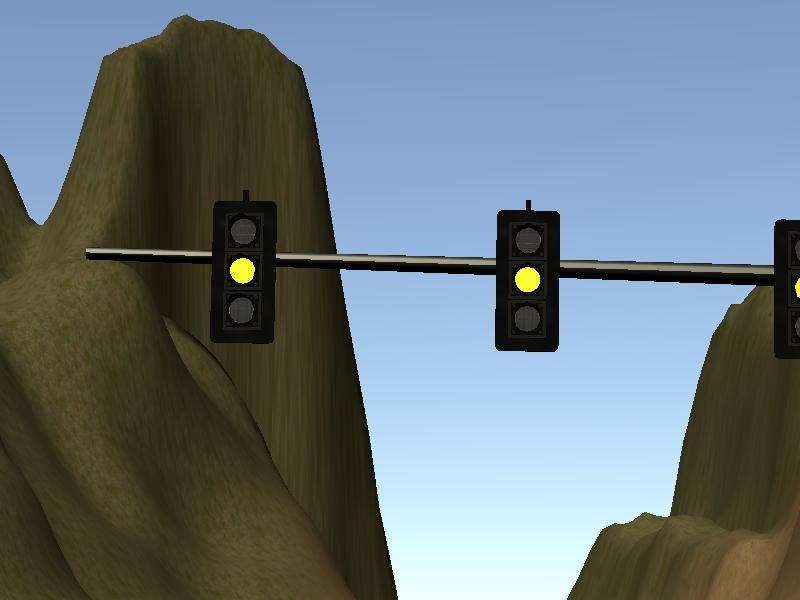YELLOW: (493, 198, 559, 352), (208, 190, 274, 344)
